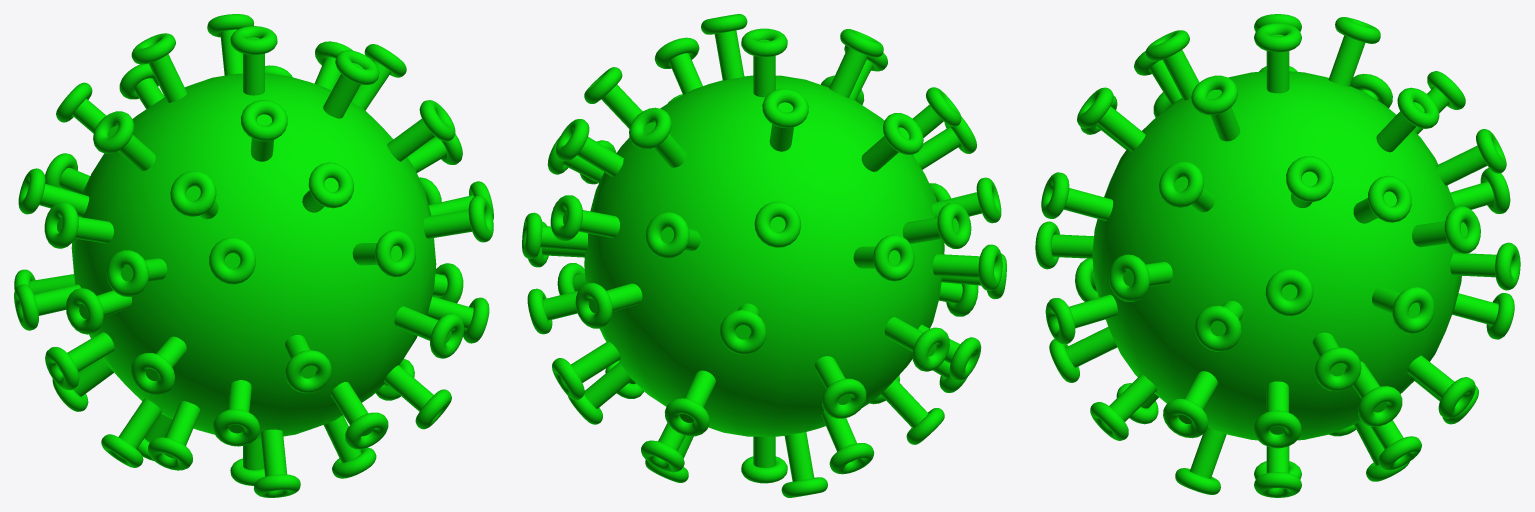
Rendered from virus.fbx.
3 views of the same model, side by side, from view 1: azimuth 30°, elevation 25°; view 2: azimuth 150°, elevation 25°; view 3: azimuth 270°, elevation 25° (orthographic). The views are drawn at different scales.
Visible parts, largest first — view 1: VirusBall; view 2: VirusBall; view 3: VirusBall.
Part boxes in pixels (bbox=[...]): VirusBall: bbox=[14, 14, 493, 497]; VirusBall: bbox=[522, 14, 1006, 497]; VirusBall: bbox=[1035, 14, 1520, 497].
Bounding box in the file's own units: 3.46 × 3.51 × 3.43.
